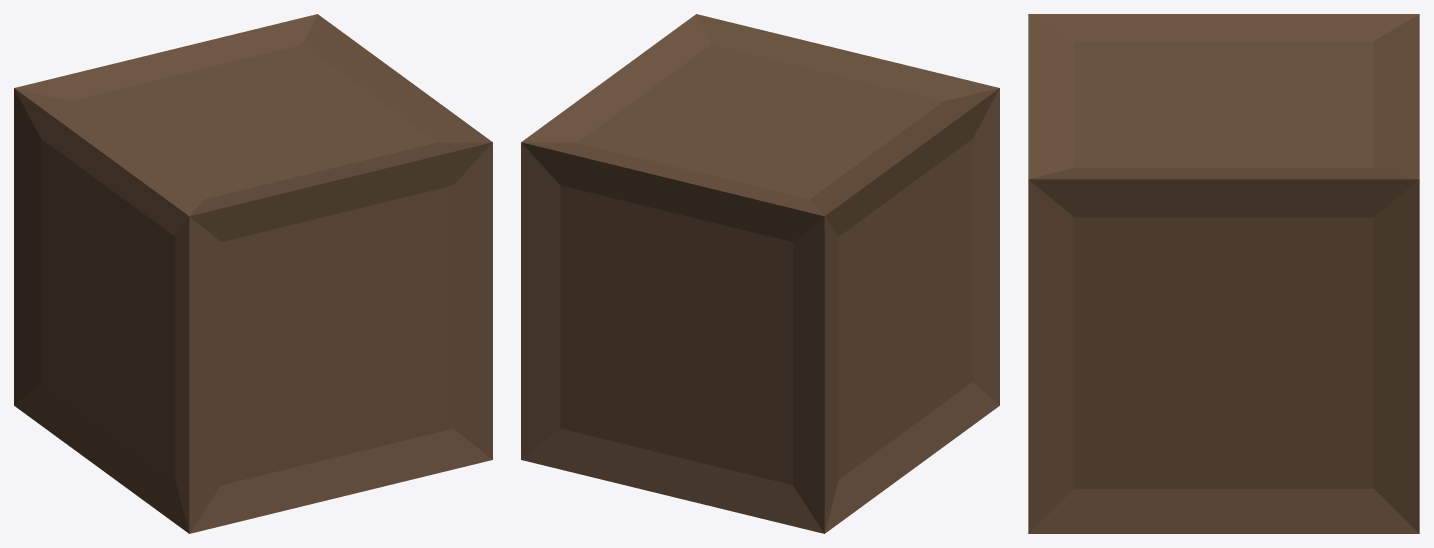
The model's file is crate.gltf.
3 renders of one model, left to right at view 1: azimuth 30°, elevation 25°; view 2: azimuth 150°, elevation 25°; view 3: azimuth 270°, elevation 25°, orthographic. The views are drawn at different scales.
Parts seen in each view (by area): view 1: Cube; view 2: Cube; view 3: Cube.
Part boxes in pixels (x1=…): Cube: x1=14, y1=14, x2=492, y2=533; Cube: x1=521, y1=14, x2=999, y2=533; Cube: x1=1028, y1=14, x2=1419, y2=533.
Size of the model in its own units: 0.8 by 0.8 by 0.8.
